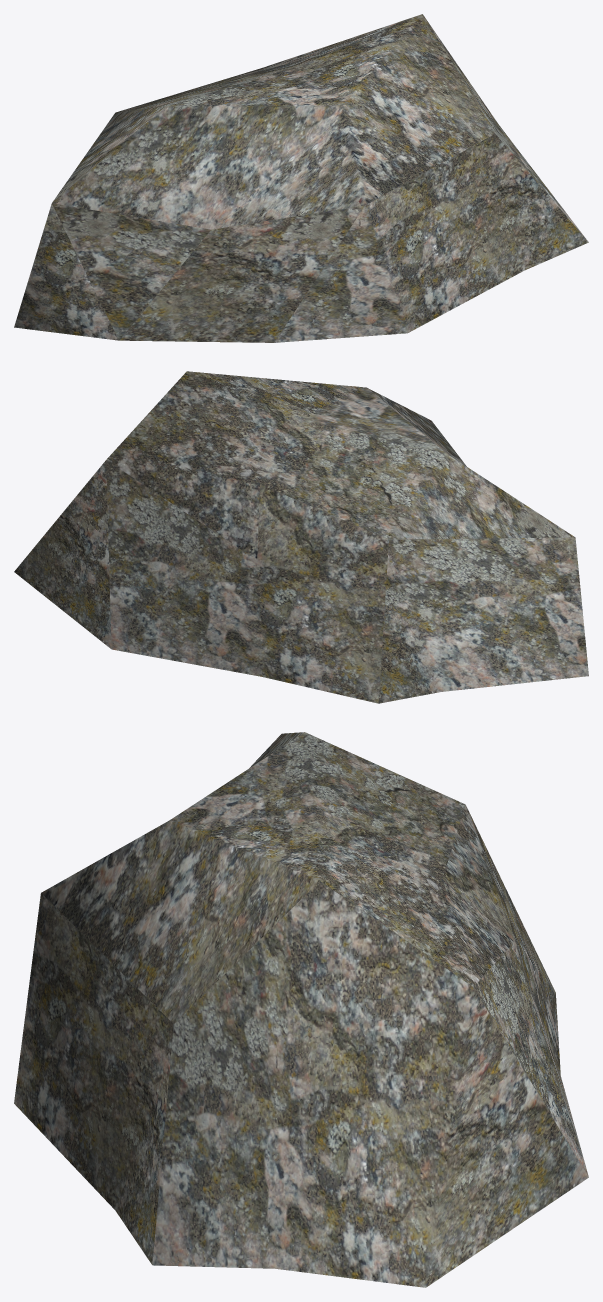
Rendered from rock.FBX.
The picture shows the model from 3 angles, top to bottom: view 1: azimuth 30°, elevation 25°; view 2: azimuth 150°, elevation 25°; view 3: azimuth 270°, elevation 25°; orthographic projection. The views are drawn at different scales.
Visible parts, largest first — view 1: rock; view 2: rock; view 3: rock.
Boxes of the visible parts, box(x1,y1,x2,y2) form: rock: box(14, 14, 588, 342); rock: box(14, 371, 588, 703); rock: box(14, 732, 588, 1287).
Bounding box in the file's own units: 101 × 37.27 × 63.09.
